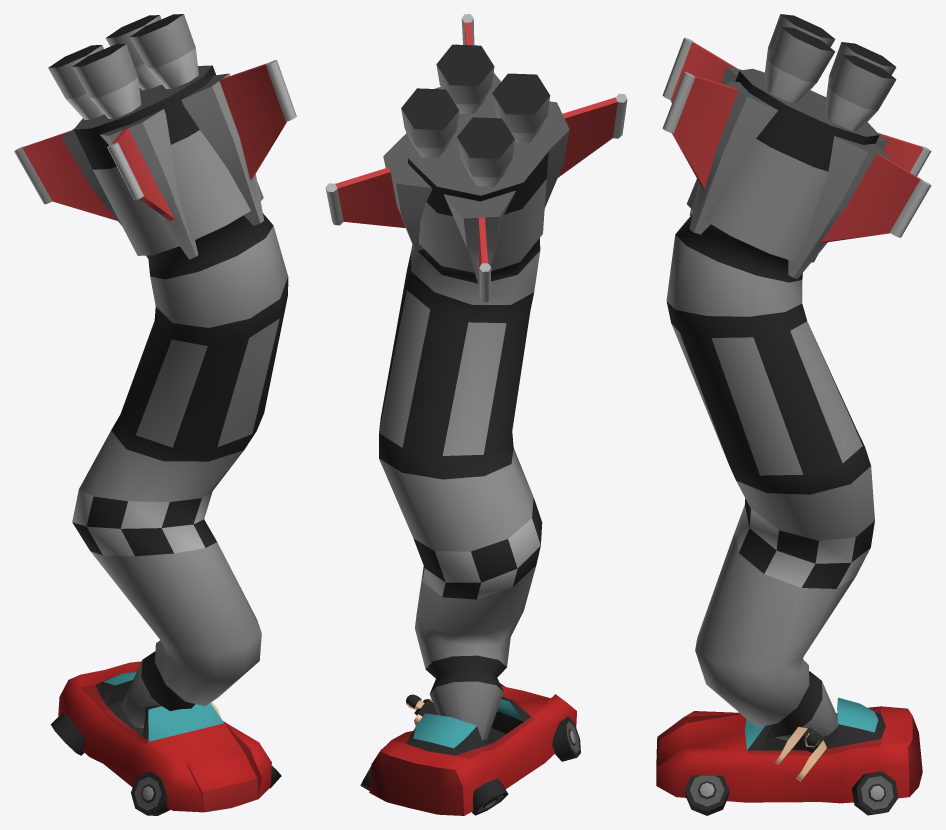
The model's file is rocket.glb.
The picture shows the model from 3 angles, left to right: view 1: azimuth 30°, elevation 25°; view 2: azimuth 150°, elevation 25°; view 3: azimuth 270°, elevation 25°; orthographic projection. The views are drawn at different scales.
Parts seen in each view (by area): view 1: Rocket; view 2: Rocket; view 3: Rocket.
Part boxes in pixels (bbox=[...]): Rocket: bbox=[14, 14, 296, 815]; Rocket: bbox=[325, 14, 627, 815]; Rocket: bbox=[656, 14, 931, 815].
Size of the model in its own units: 3.03 by 10.83 by 3.55.
Materials: 1 (1 with a texture image).
